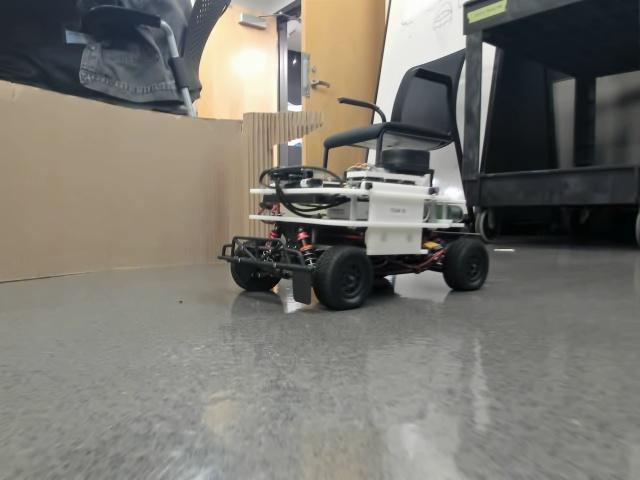Car: (217, 148, 487, 310)
